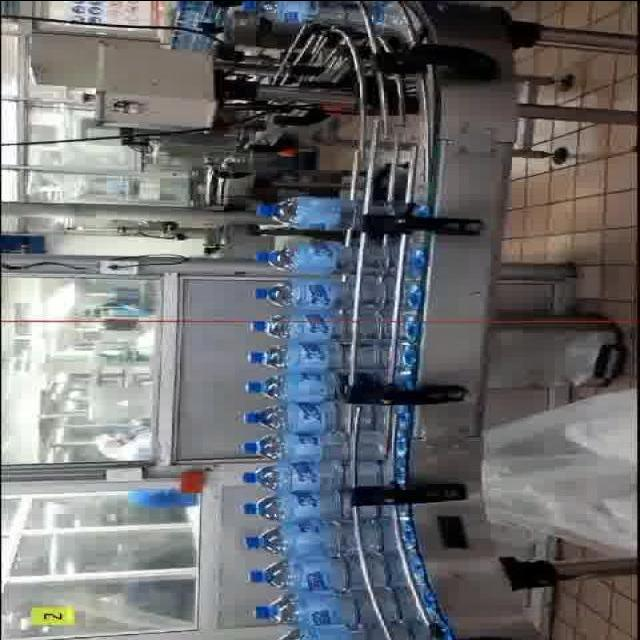bottle: (247, 584, 423, 630), (244, 331, 422, 372), (247, 548, 409, 592), (254, 194, 430, 233), (237, 451, 408, 491), (238, 484, 408, 524), (241, 520, 385, 560), (240, 304, 402, 338), (253, 240, 391, 277), (252, 278, 389, 311), (236, 431, 350, 464), (240, 400, 346, 435), (243, 371, 343, 403)
